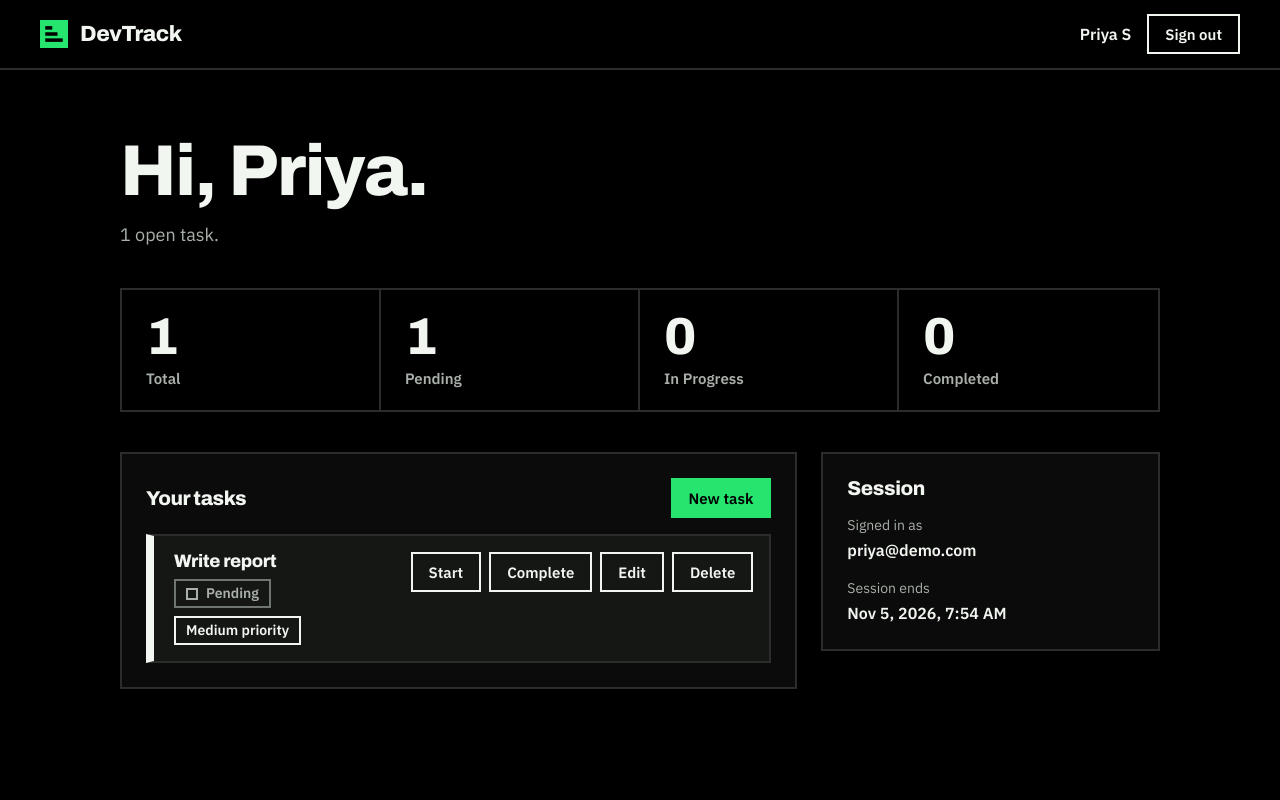
Test case: Dashboard: quick status changes (FR-08) › sends only the status, then updates the badge and the summary counters
Expected: the heading "Hi, Priya." is shown, [120,132,428,210]
Click the button with aria-label "Mark Write report as In Progress" at (446, 572), box [410,552,481,592]
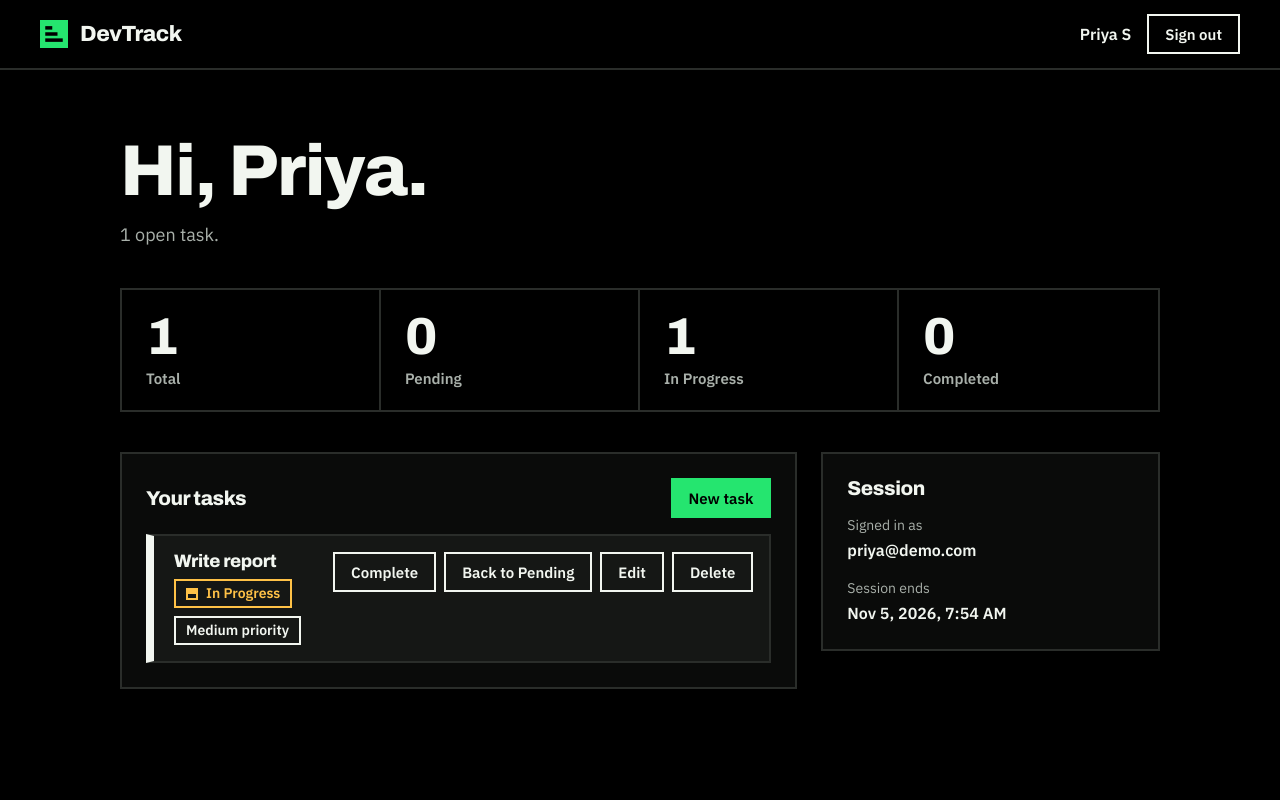
Expected: the text "In Progress" is shown, [174,579,292,608]
Expected: the 1st text "0" is shown, [405,308,436,365]
Expected: the 2nd text "1" is shown, [664,308,696,365]
